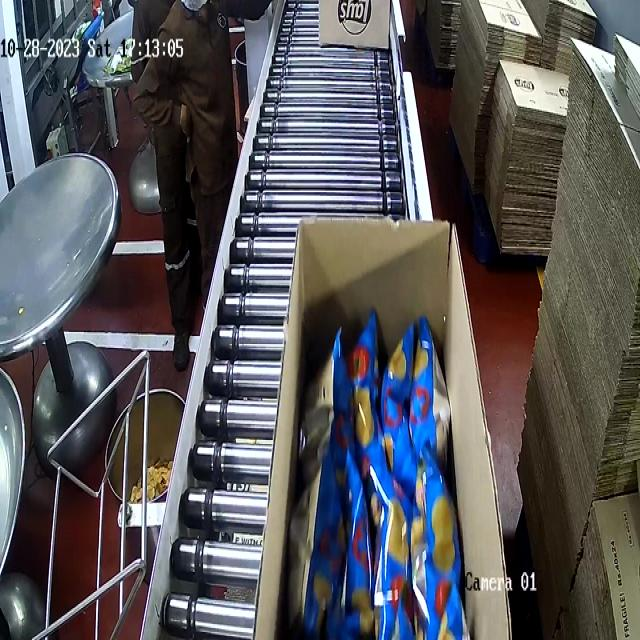PAPRIKA: (300, 308, 471, 640)
